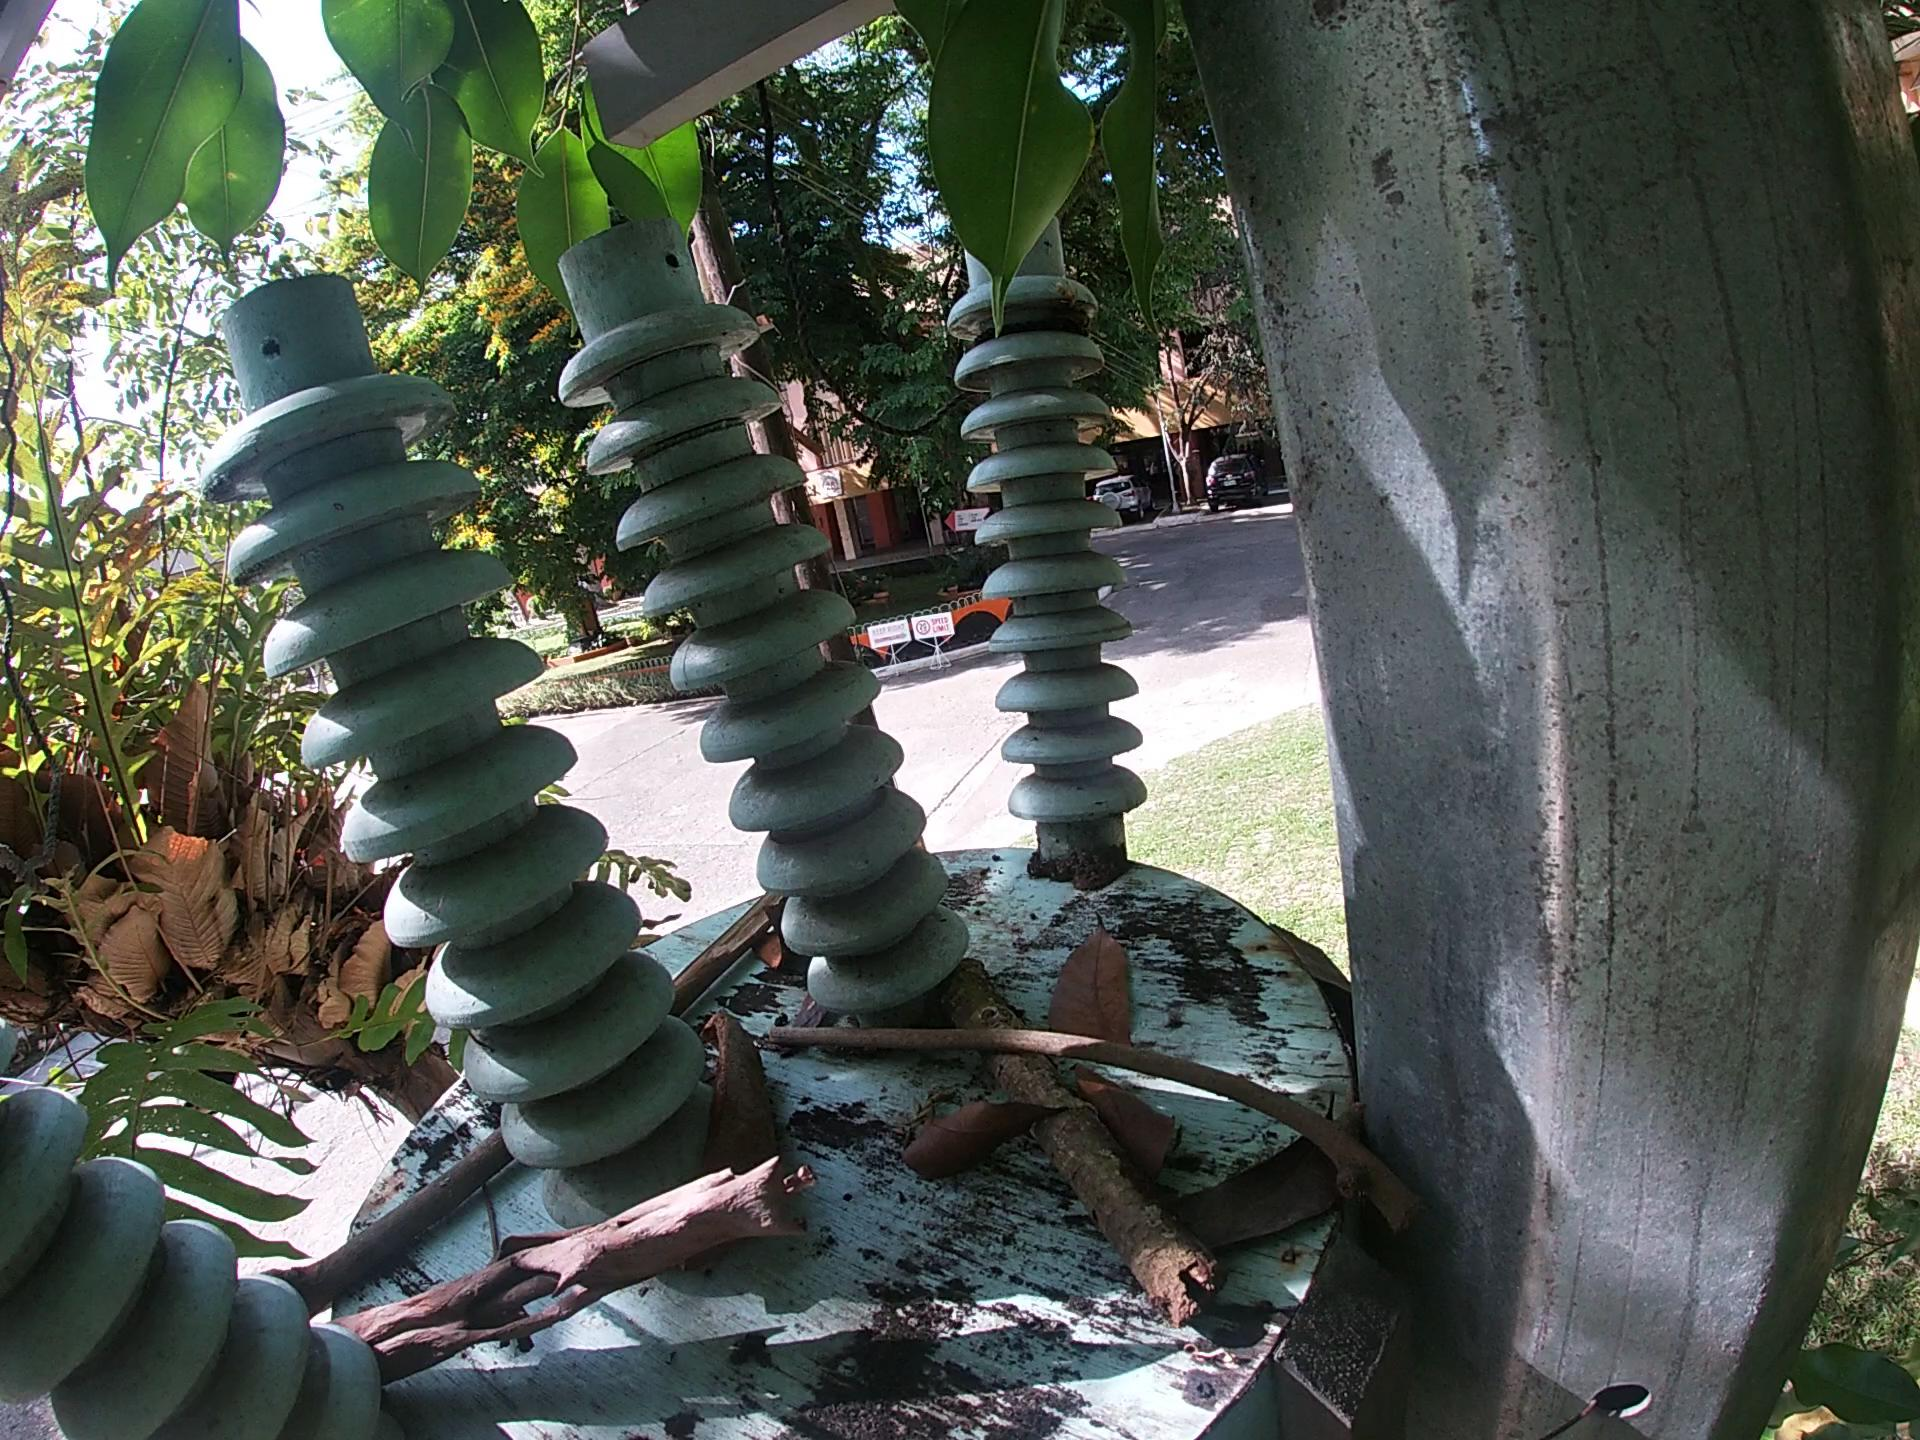leaf: (1172, 1098, 1336, 1252), (1060, 1047, 1191, 1184), (903, 1094, 1069, 1184), (1045, 915, 1144, 1048)
mahogany fruit: (695, 998, 783, 1184), (745, 898, 801, 979)
tree branch: (760, 1018, 1439, 1246), (321, 1153, 841, 1386), (940, 948, 1226, 1336), (266, 1131, 514, 1311), (665, 882, 791, 1026)
